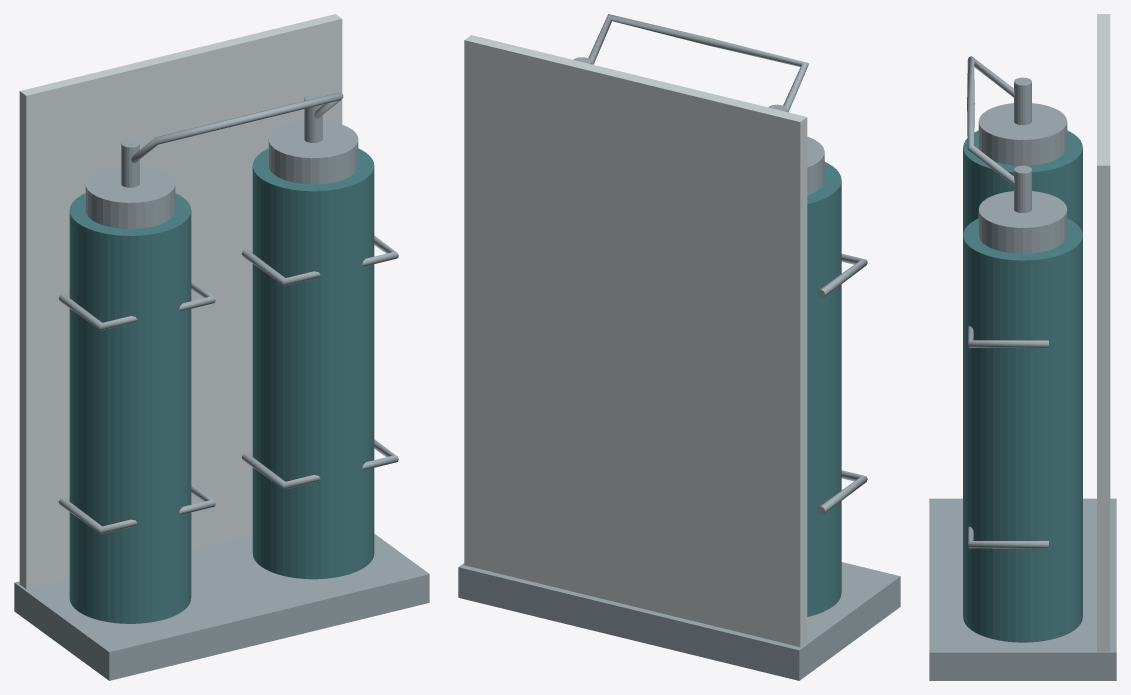
Rendered from PC_SF_MedicalGasStation.fbx.
3 renders of one model, left to right at view 1: azimuth 30°, elevation 25°; view 2: azimuth 150°, elevation 25°; view 3: azimuth 270°, elevation 25°, orthographic. The views are drawn at different scales.
Visible parts, largest first — view 1: PC_SF_MedicalGasStation; view 2: PC_SF_MedicalGasStation; view 3: PC_SF_MedicalGasStation.
Boxes of the visible parts, <box> form: PC_SF_MedicalGasStation: <box>14,14,429,680</box>; PC_SF_MedicalGasStation: <box>458,14,900,680</box>; PC_SF_MedicalGasStation: <box>929,14,1116,680</box>.
Bounding box in the file's own units: 140 × 218 × 72.
